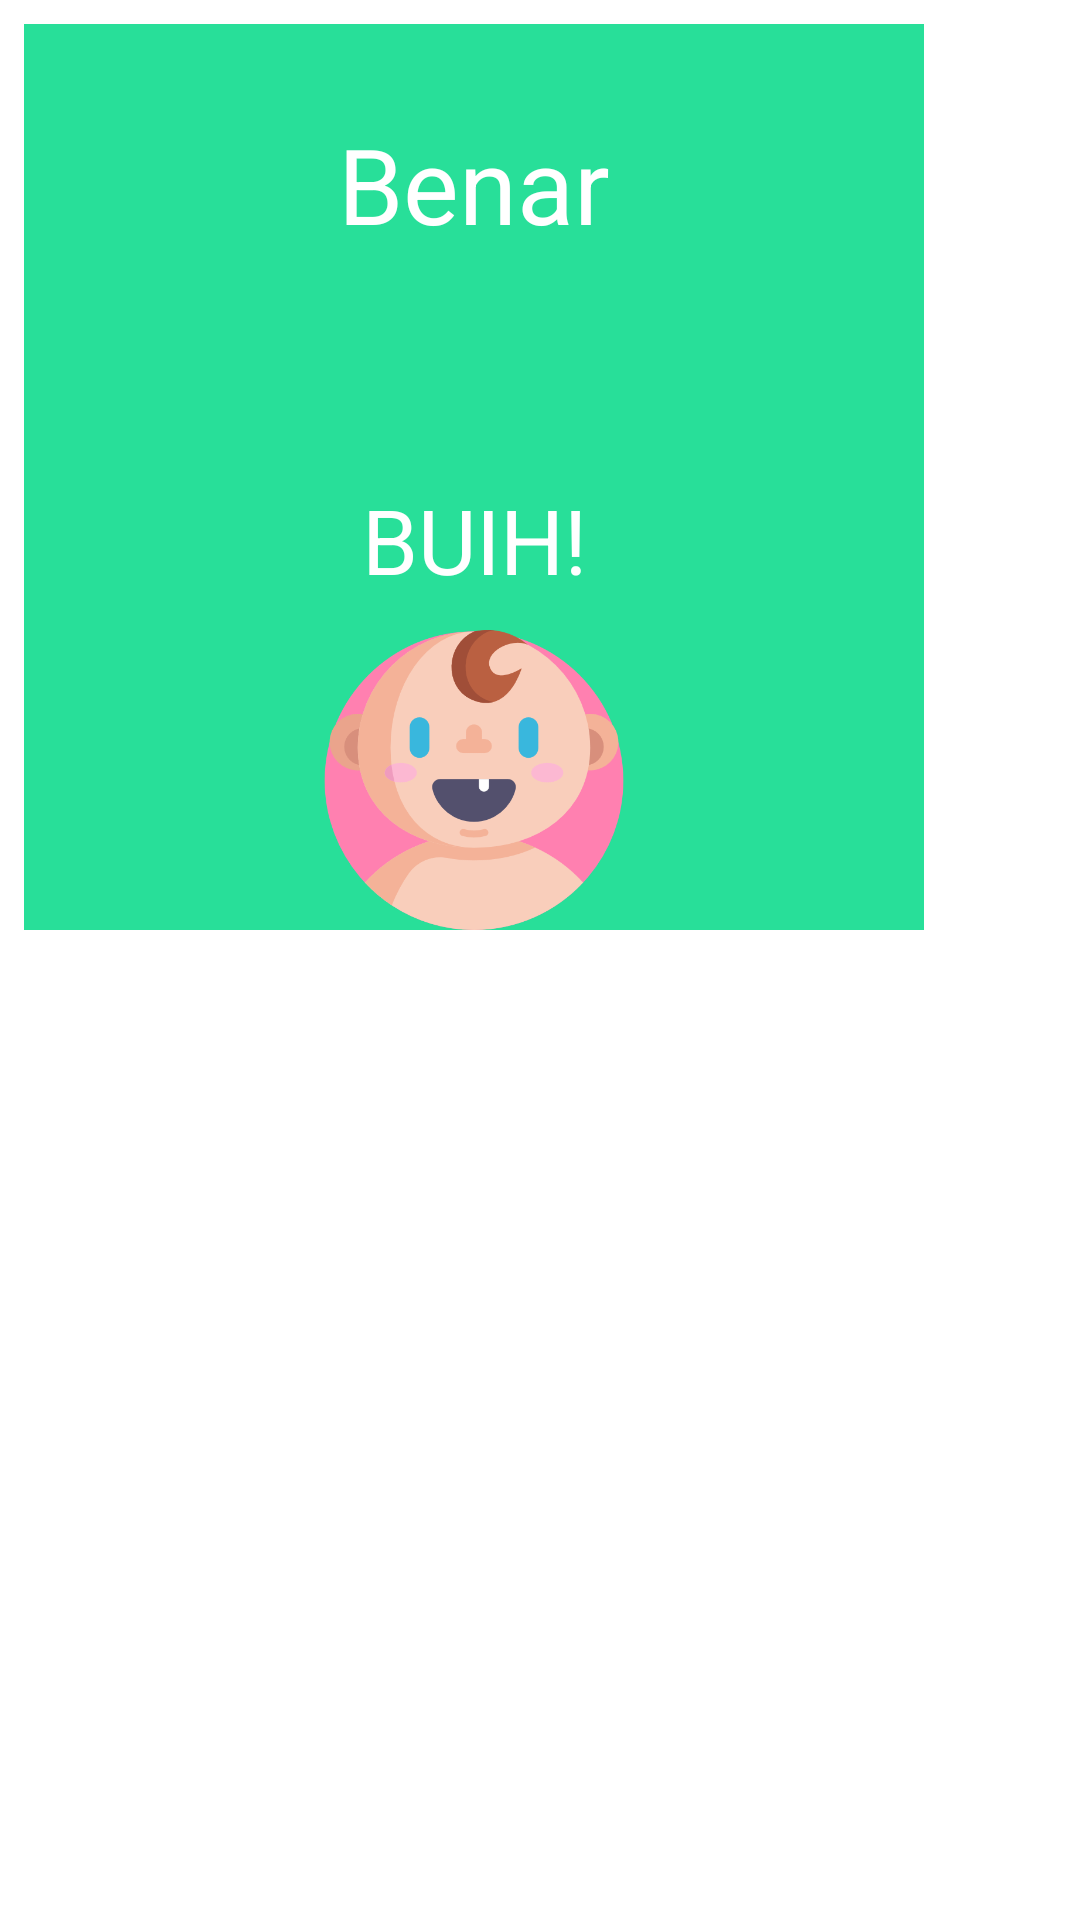

Screen size 1080×1920. Icon name, then its center in pixels as (x,y):
happy: (474,780)
